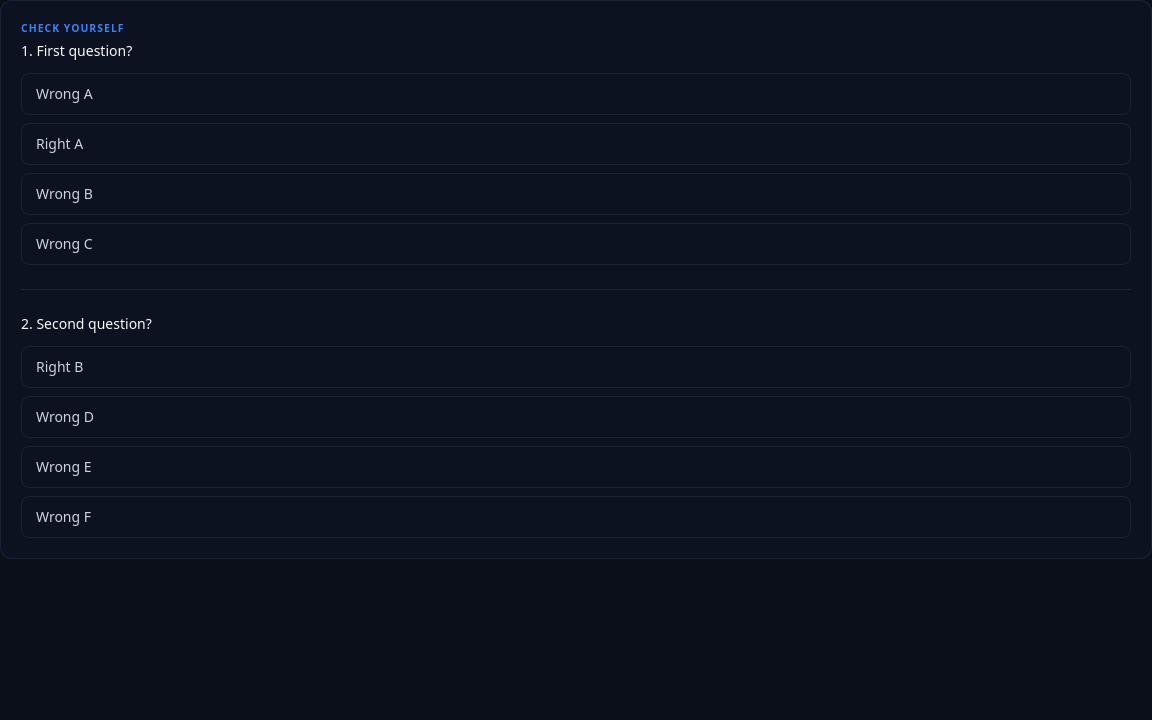
CheckYourselfQuiz › marks a wrong pick as incorrect and still reveals the correct answer
Click the button "Wrong A".
click(64, 93)  # box left=21, top=73, right=1131, bottom=115
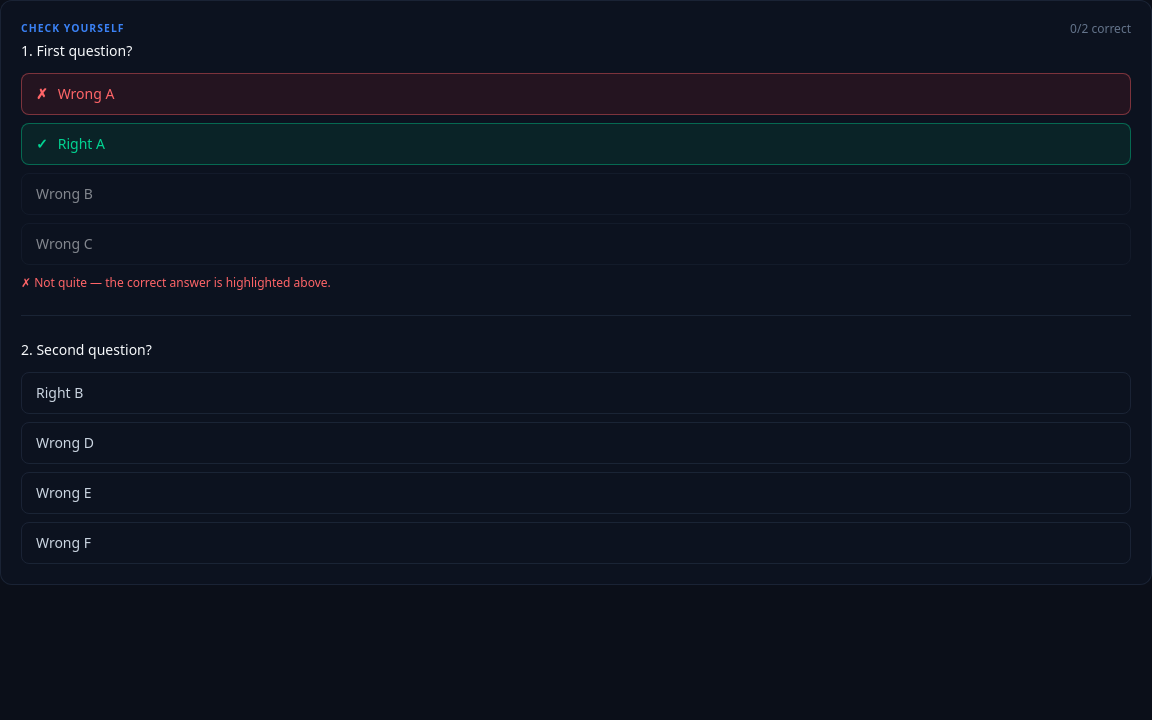
Check: the text "Right A" is shown, box left=58, top=134, right=105, bottom=154
Check: the text "✗ Not quite — the correct answer is highlighted above." is shown, box left=21, top=274, right=331, bottom=291
Check: the text "0/2 correct" is shown, box left=1070, top=21, right=1131, bottom=37
